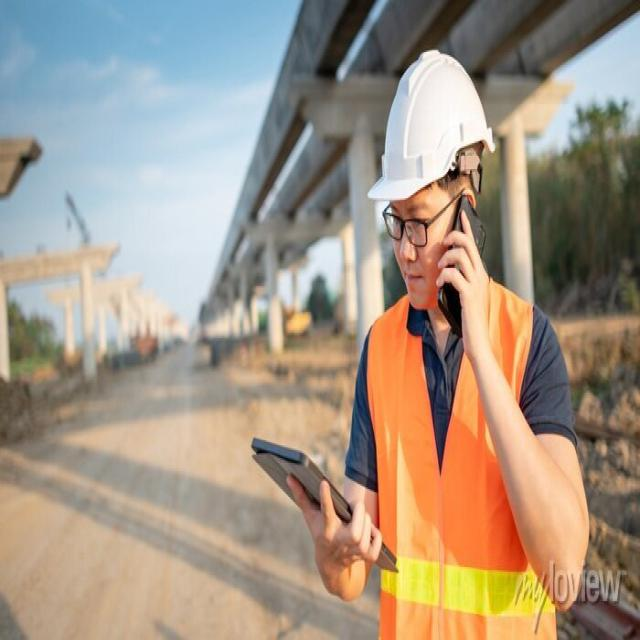goggles: (377, 197, 464, 255)
helmet: (365, 53, 502, 208)
vest: (363, 281, 568, 640)
